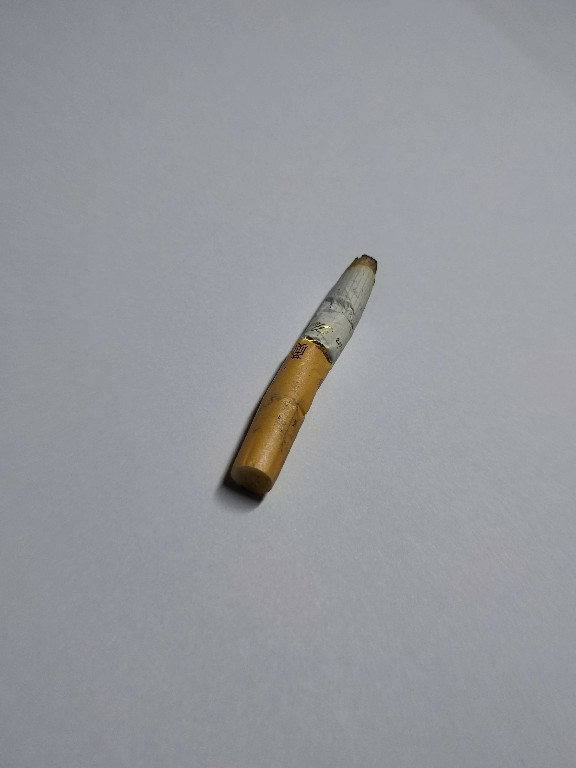cigarette: (207, 239, 393, 513)
